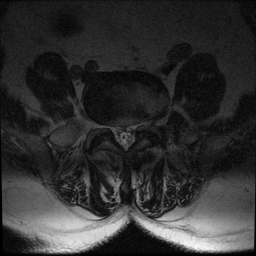CCS_normal: (121, 118, 129, 156)
LFS_severe_stenosis: (138, 117, 146, 139)
LLS_normal: (130, 118, 138, 151)
RFS_severe_stenosis: (105, 116, 112, 139)
RLS_normal: (112, 117, 121, 150)
